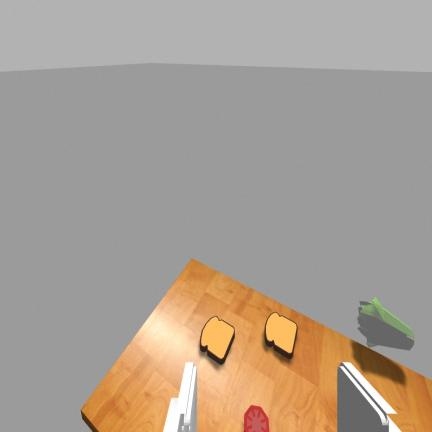lettuce: (357, 298, 414, 350)
sliced_bread: (200, 316, 235, 364), (265, 312, 297, 358)
sliced_tomato: (244, 405, 269, 431)
